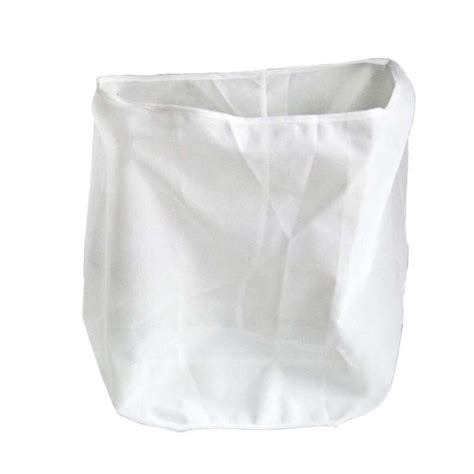nylon: (83, 57, 414, 431)
